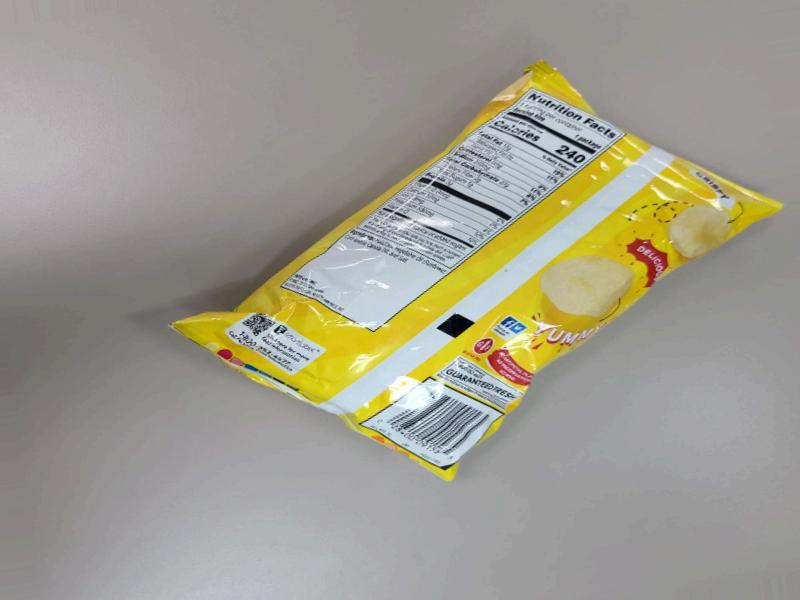lays: (235, 45, 800, 412)
